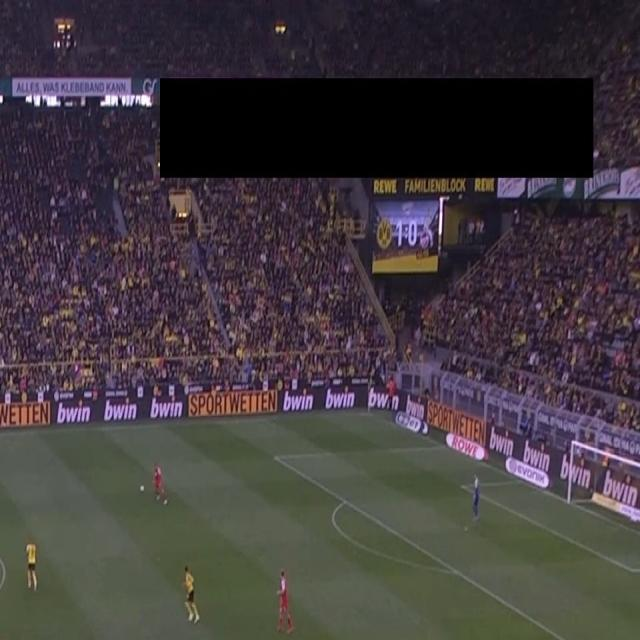ball: (139, 482, 145, 494)
